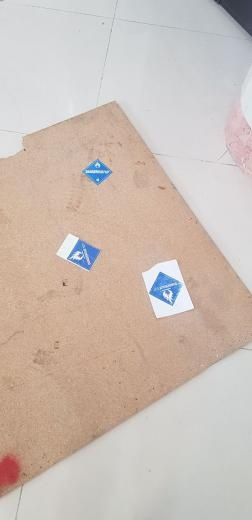Dangerous when wet: (149, 272, 183, 306), (66, 239, 101, 272), (82, 159, 112, 185)
